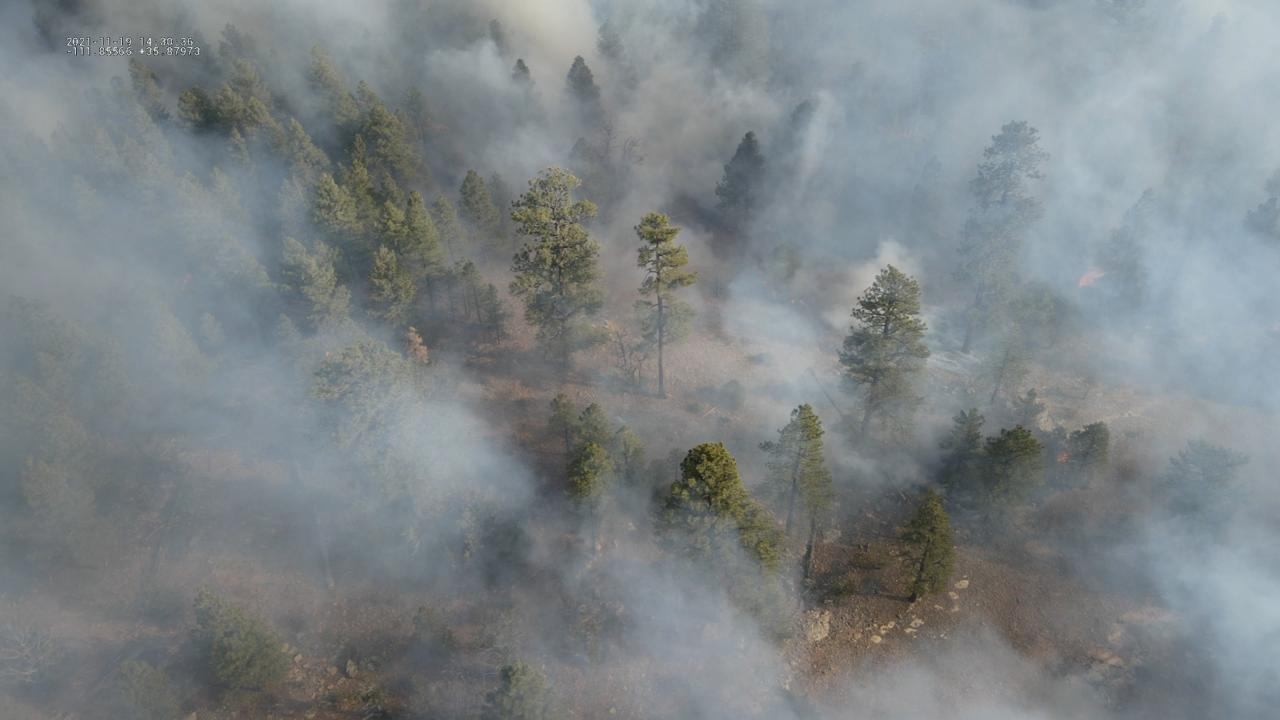fire: (1076, 268, 1106, 290), (1055, 449, 1071, 464)
smoke: (0, 0, 1280, 720)
